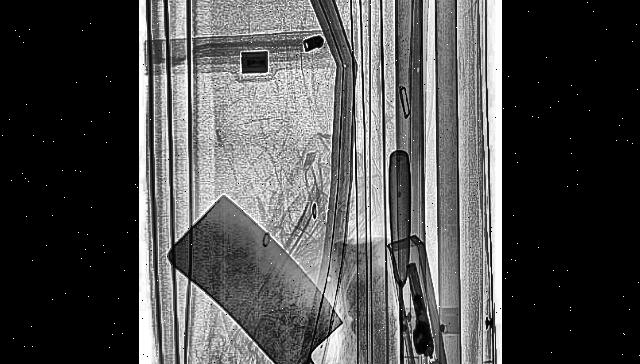Gun: (393, 258, 438, 364)
Knife: (163, 156, 409, 364), (387, 151, 410, 364)
